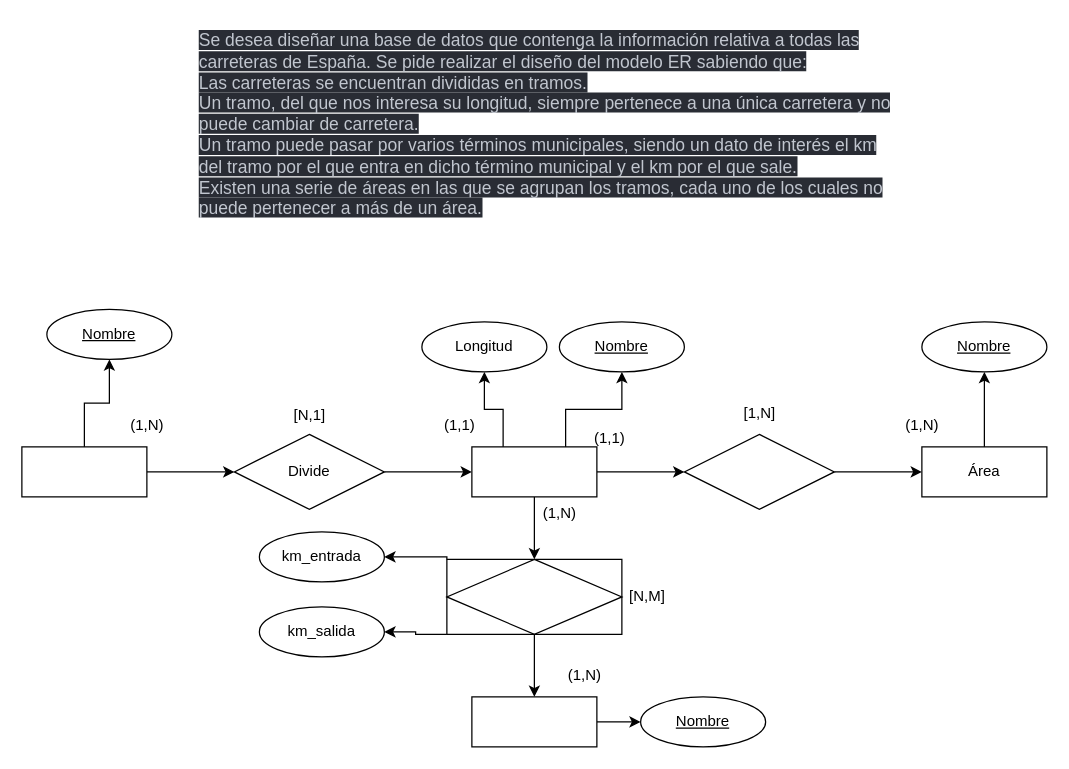
Image size: 1069x769. Some labels were removed from this diagram. The centre of each missing label's shape, as x and y in pixels:
"Carretera" goes at point (84, 471).
"Municipio" goes at point (534, 721).
"Pasa" goes at point (534, 596).
"Pertenece" goes at point (758, 471).
"Tramo" goes at point (534, 471).
